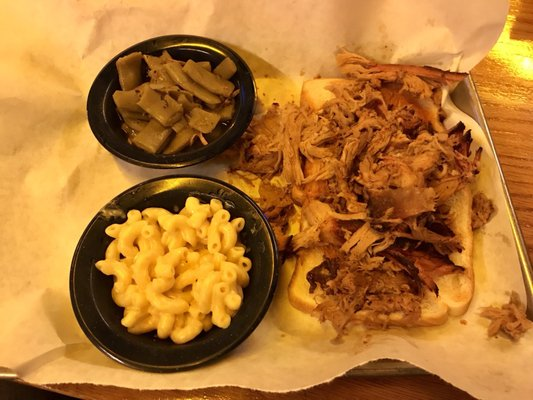sushi: (67, 176, 280, 373), (86, 34, 256, 171)
